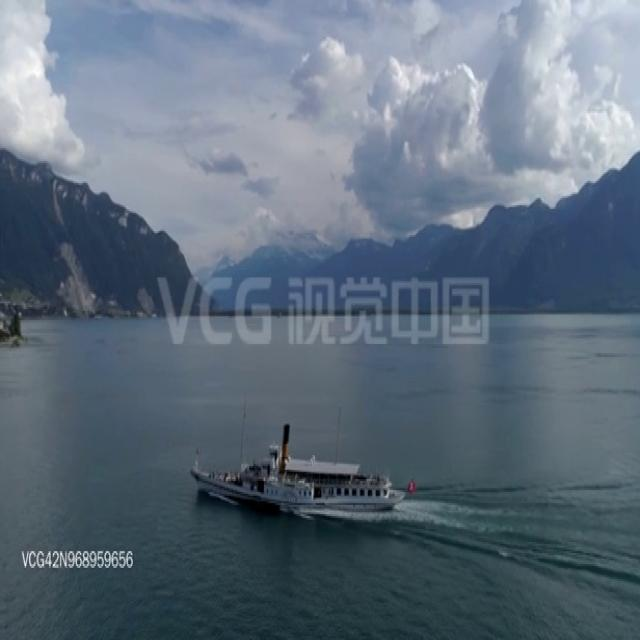passenger ship: (192, 424, 401, 514)
